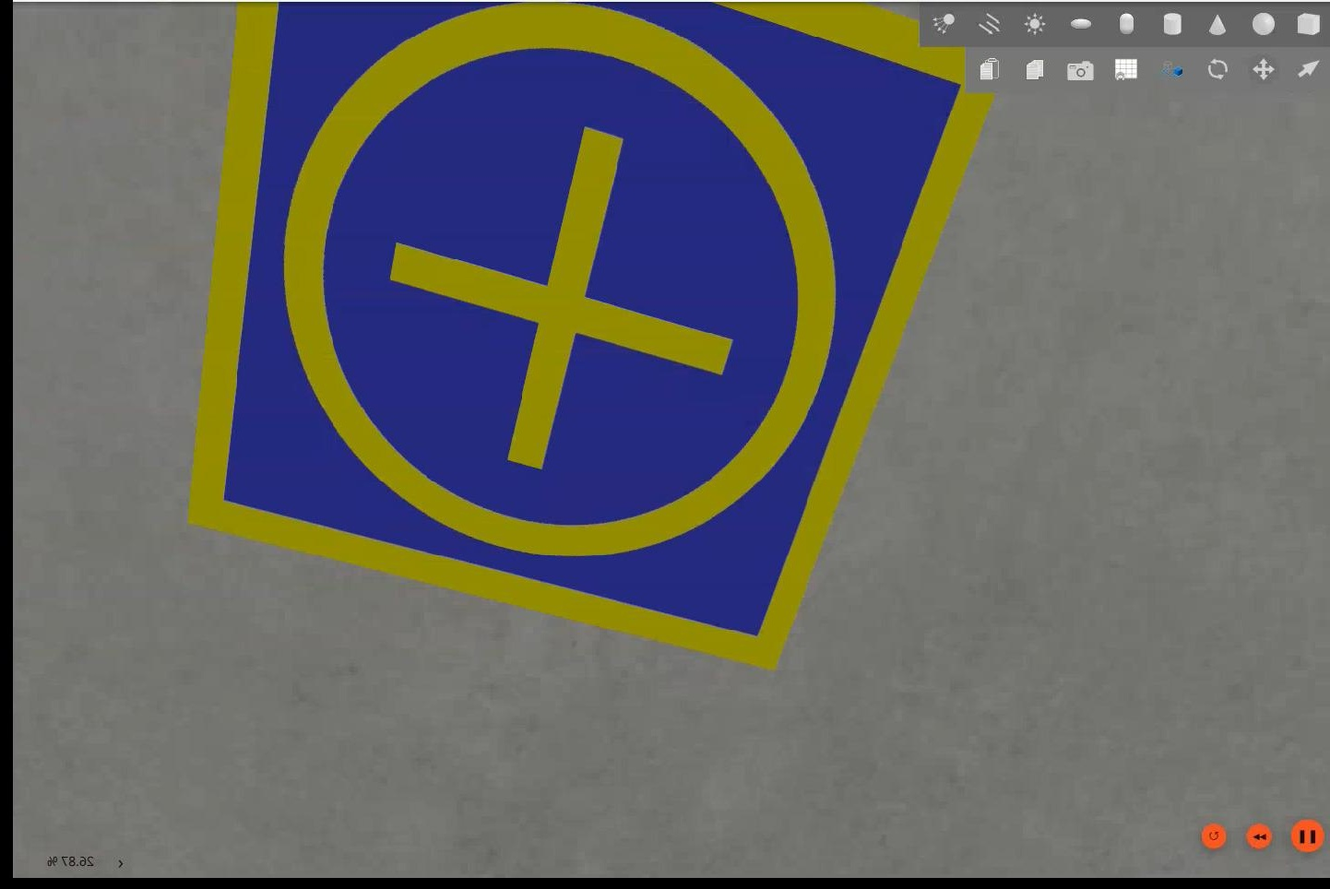small_base: (180, 1, 993, 676)
